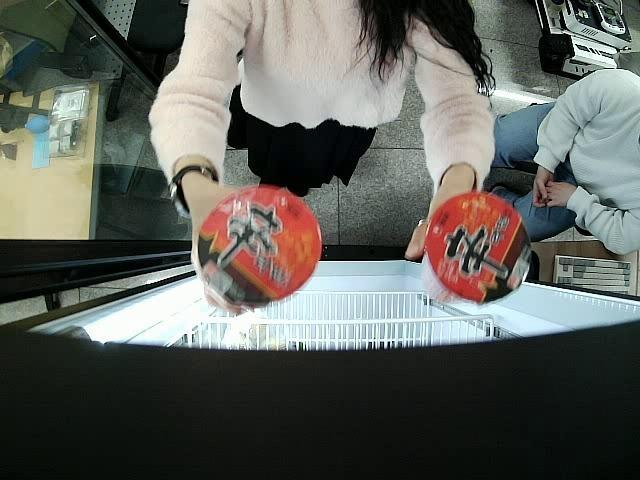02_shinRamen_S: (198, 185, 321, 311), (422, 193, 534, 305)
